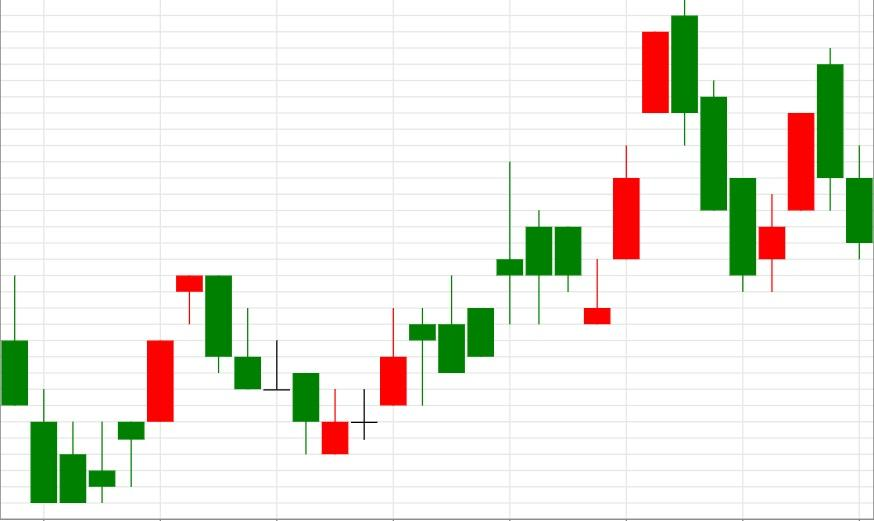bearish_engulfing_fall: (30, 275, 233, 503)
inverse_hammer_rise: (495, 160, 611, 327)
